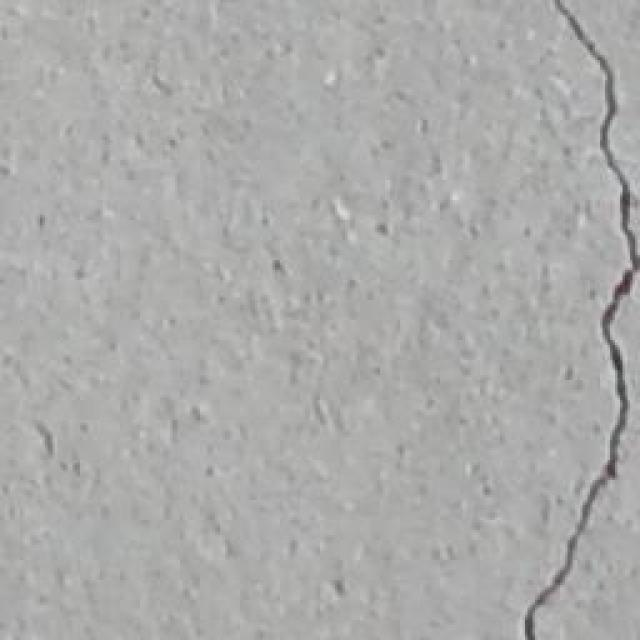concrete-crack: (525, 0, 640, 640)
